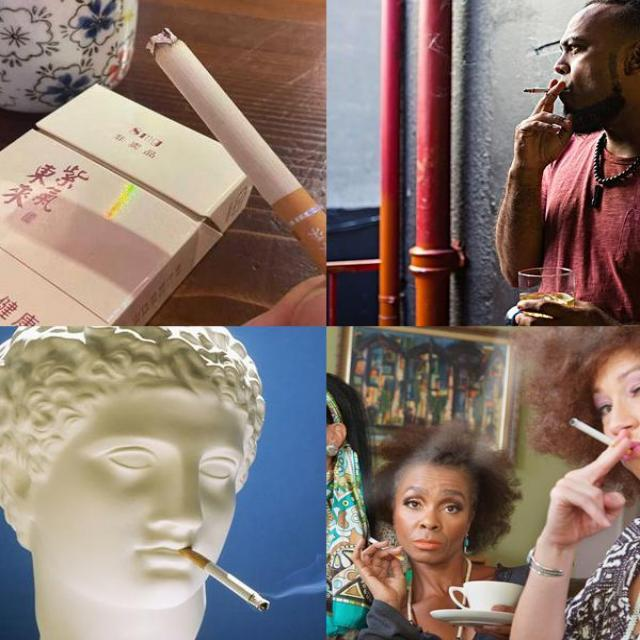cigarette: (146, 26, 325, 326), (174, 537, 271, 624), (569, 417, 635, 455), (366, 535, 406, 562), (520, 82, 570, 100)
